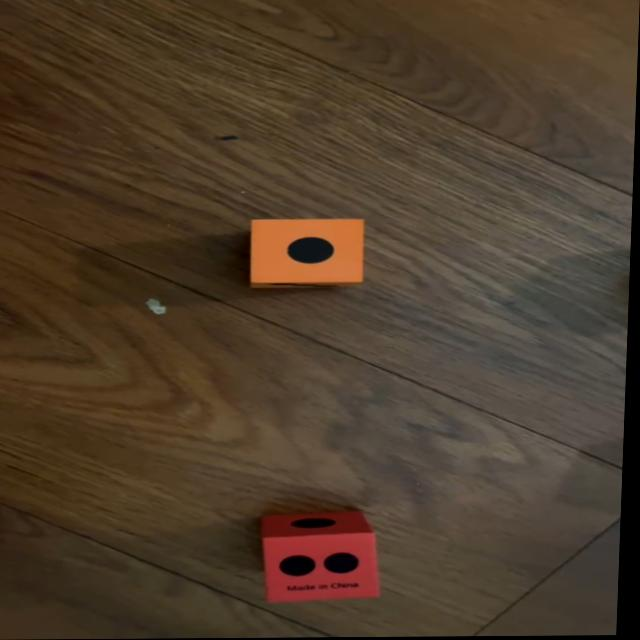red_block: (260, 512, 387, 603)
